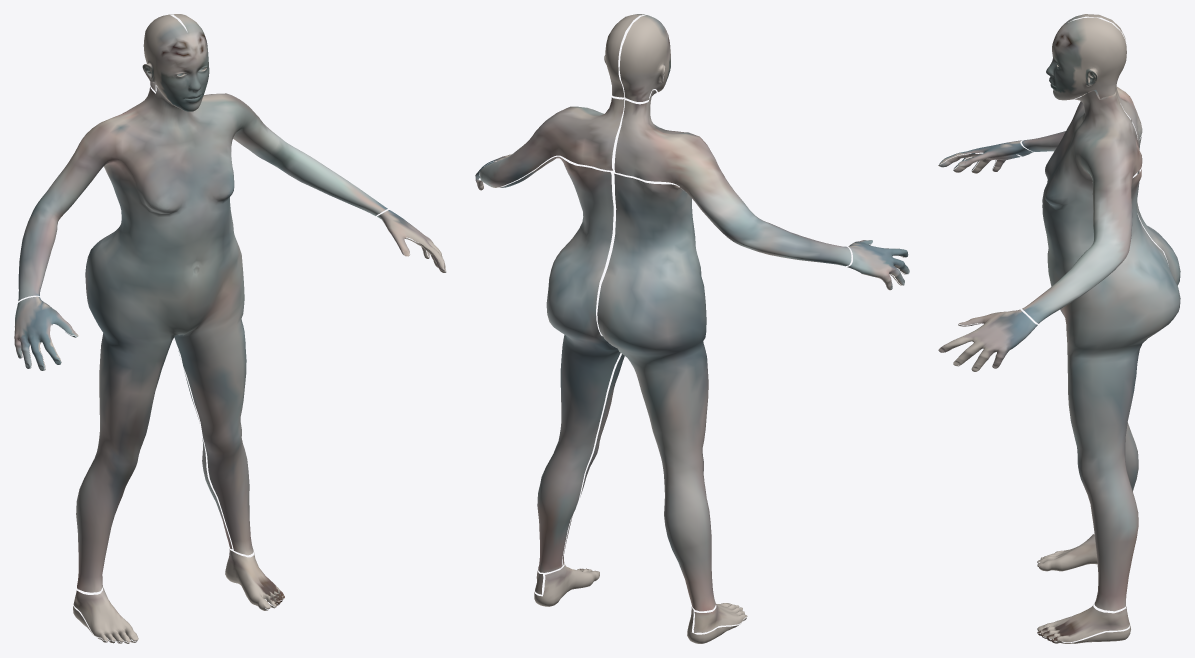
File: body_mesh.glb
The picture shows the model from 3 angles, left to right: view 1: azimuth 30°, elevation 25°; view 2: azimuth 150°, elevation 25°; view 3: azimuth 270°, elevation 25°; orthographic projection.
Parts seen in each view (by area): view 1: base_male.obj; view 2: base_male.obj; view 3: base_male.obj.
Part boxes in pixels (x1=…): base_male.obj: x1=14, y1=14, x2=446, y2=643; base_male.obj: x1=475, y1=14, x2=909, y2=643; base_male.obj: x1=938, y1=14, x2=1180, y2=643.
Size of the model in its own units: 1.28 by 1.75 by 0.6549.
